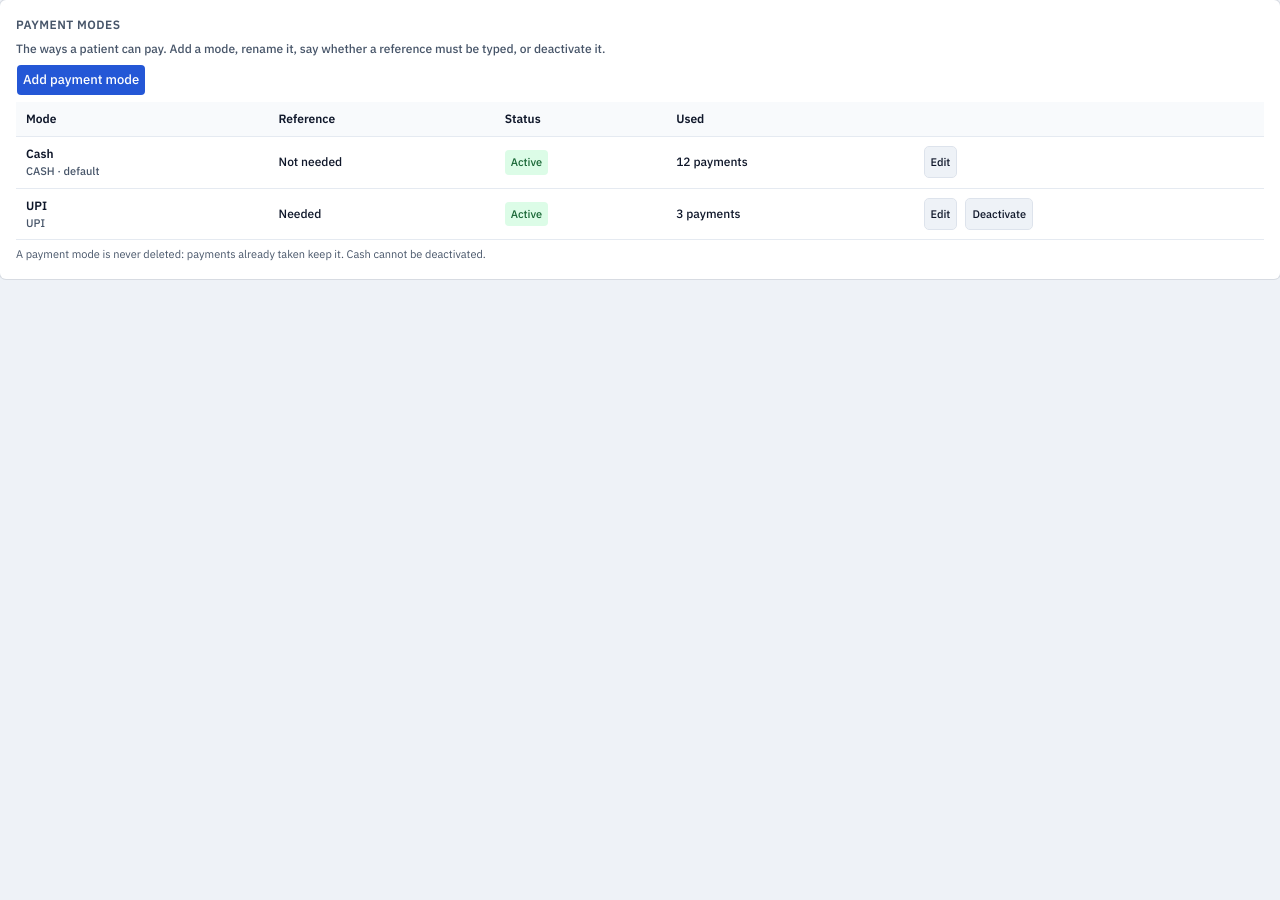
Test: PaymentModesScreen › Add opens a pop-up; the new mode is sent and listed
Click the button "Add payment mode" at (81, 80), box [16,64,146,96]
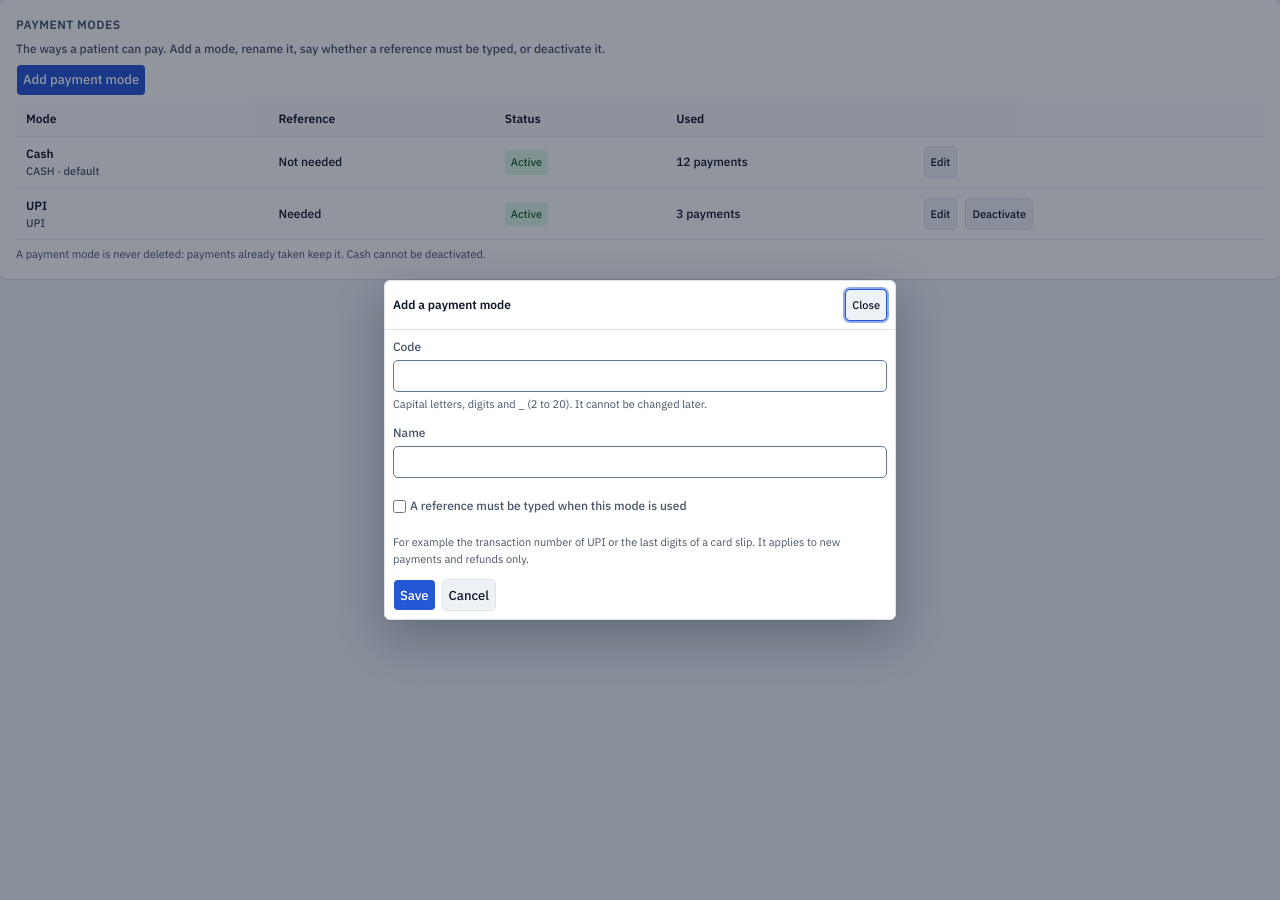
Type "neft" into the field labelled "Code" at (640, 376), box [393,360,887,392]
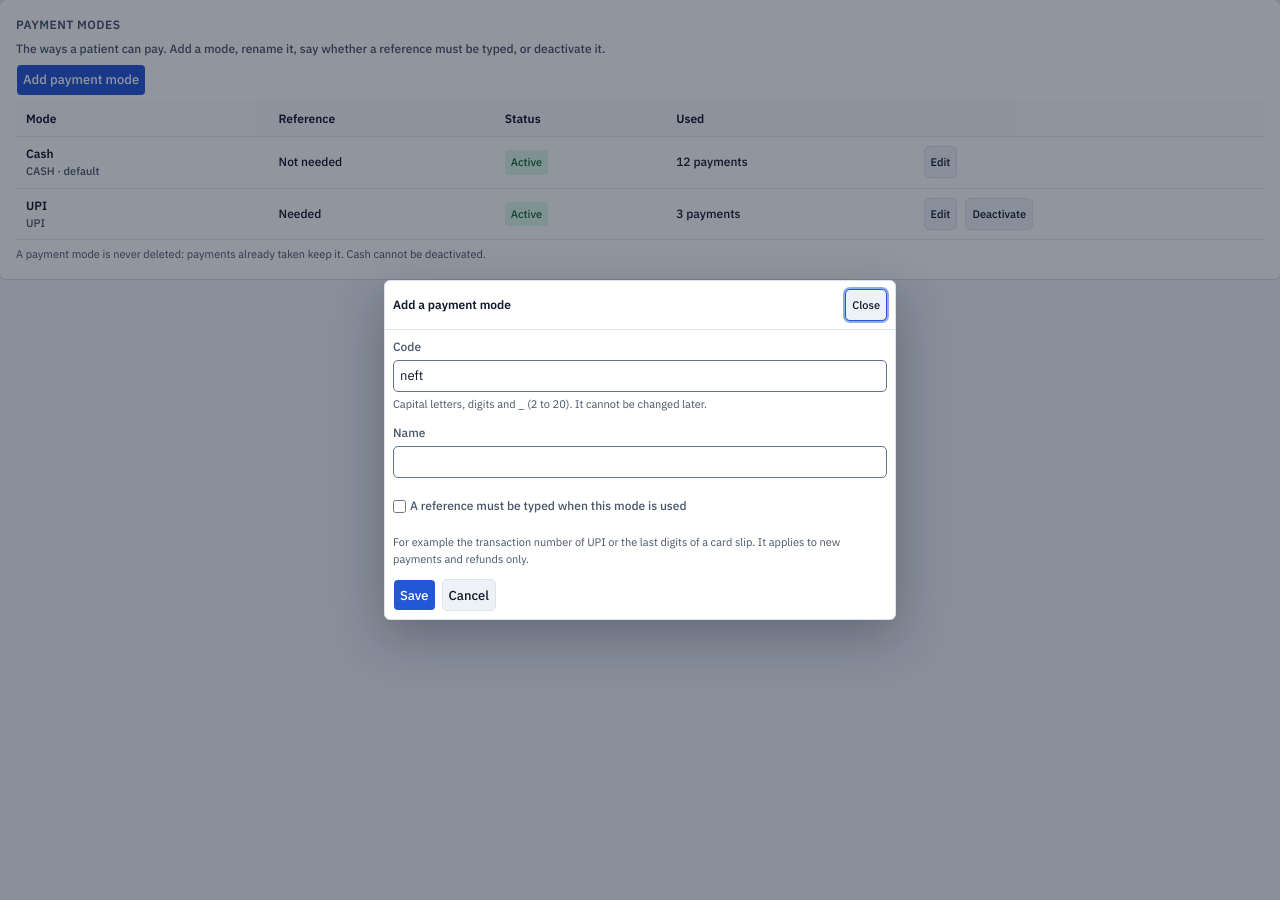
Type "Bank transfer" into the field labelled "Name" at (640, 462), box [393,446,887,478]
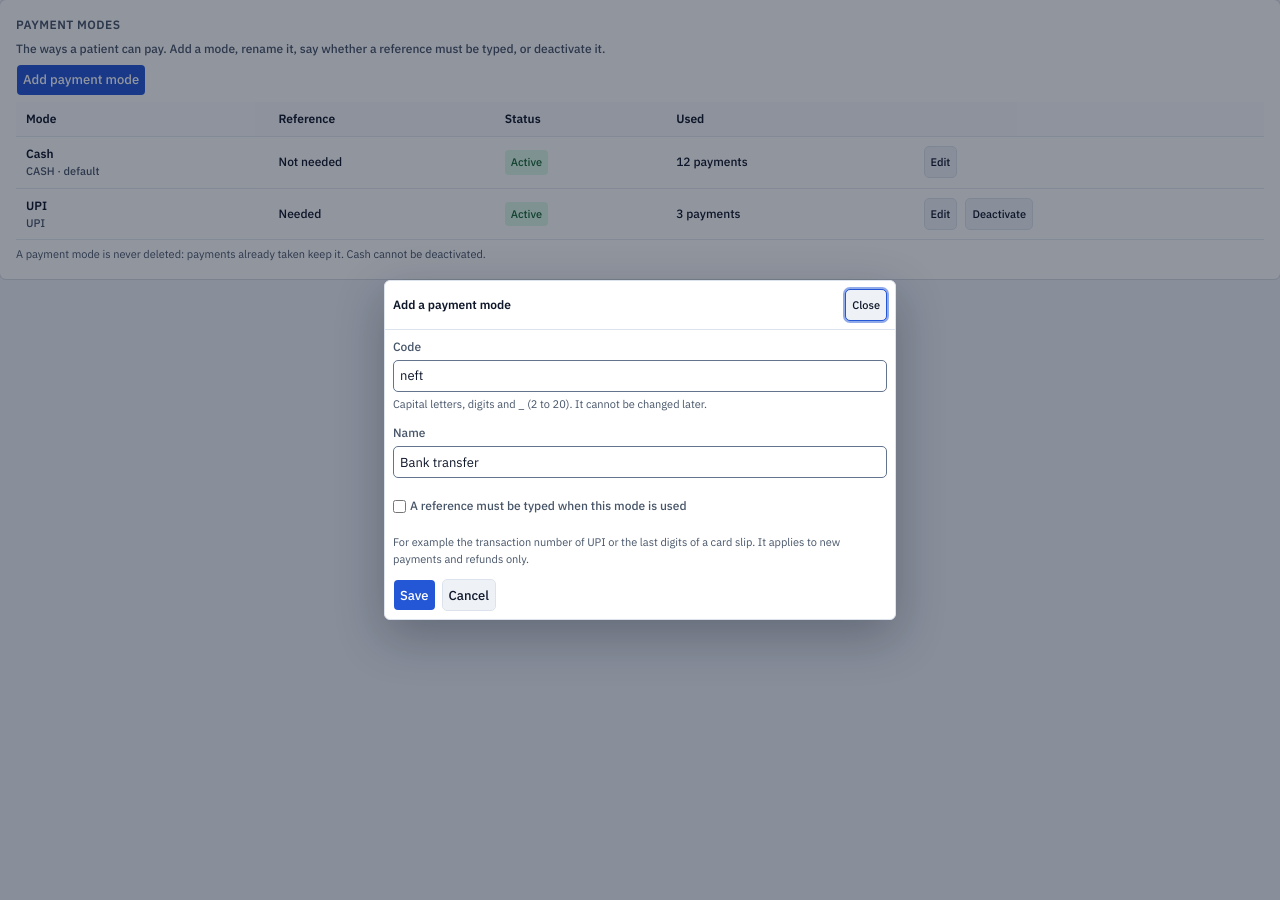
Click the checkbox labelled "A reference must be typed when this mode is used" at (400, 506), box [393,500,406,513]
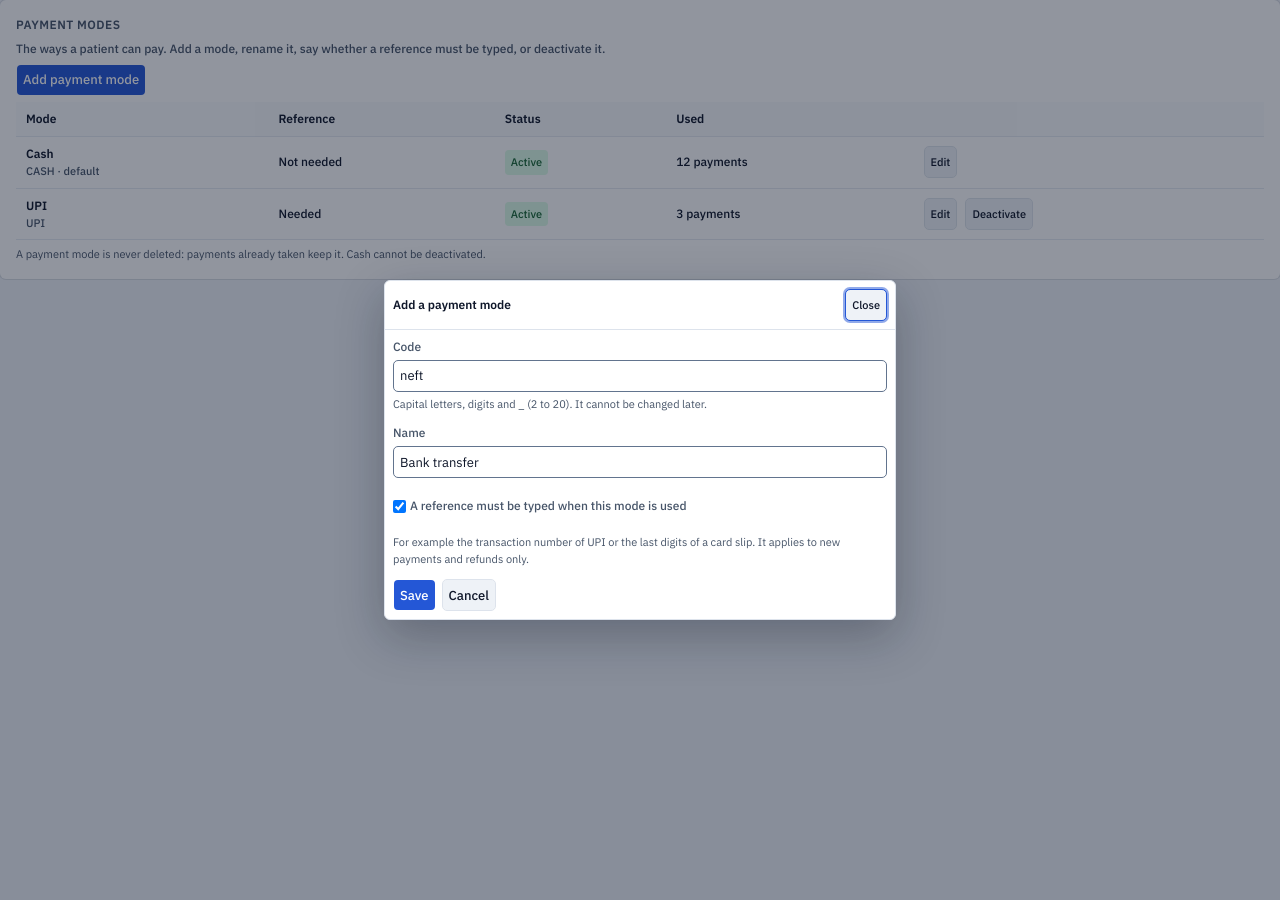
Click the button "Save" at (414, 595), box [393,579,436,611]
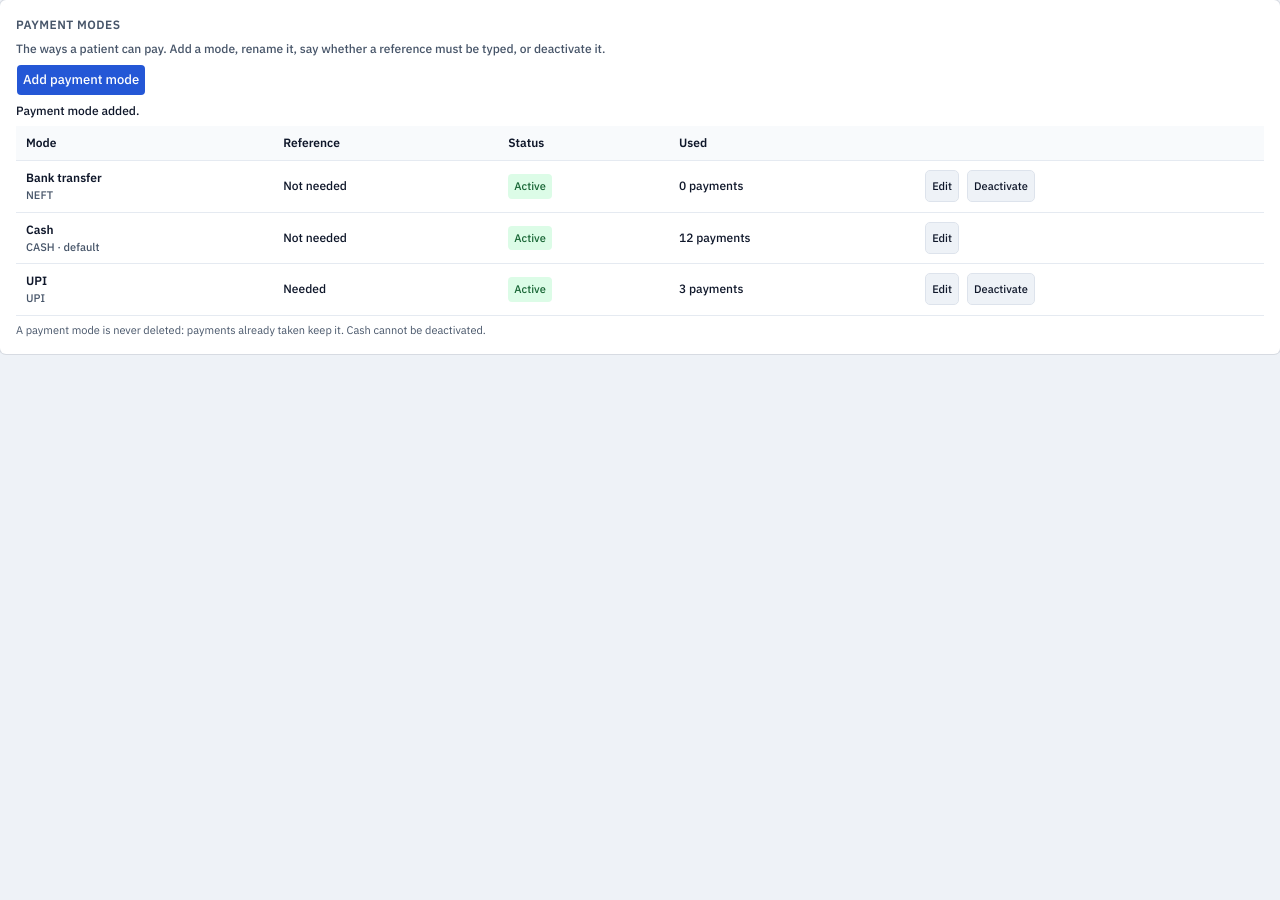
expect the text "Payment mode added." is shown: met, box [16,103,139,118]
expect the dialog is gone: met
expect the text "Bank transfer" is shown: met, box [26,170,102,185]
